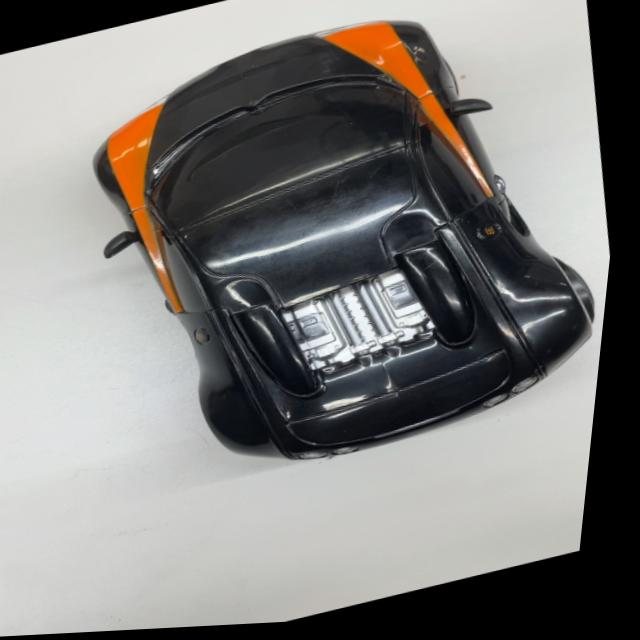vehicle_body: (43, 0, 640, 514)
